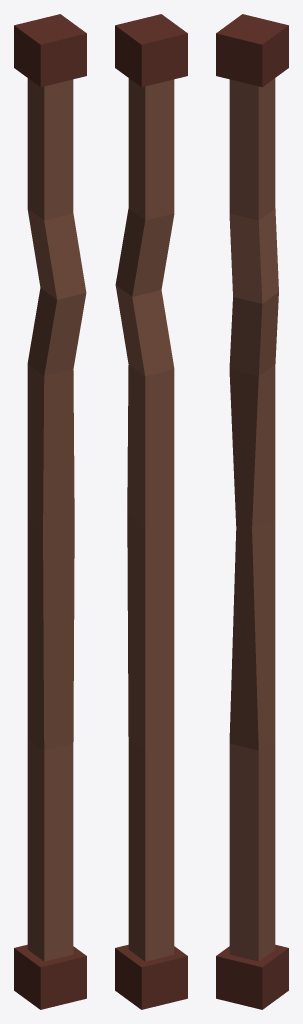
Rendered from ScrapPiller1.fbx.
The picture shows the model from 3 angles, left to right: view 1: azimuth 30°, elevation 25°; view 2: azimuth 210°, elevation 25°; view 3: azimuth 330°, elevation 25°; orthographic projection.
Parts seen in each view (by area): view 1: Cube; view 2: Cube; view 3: Cube.
Part boxes in pixels (x1,y1,x2,y2): Cube: [14, 14, 86, 1009]; Cube: [115, 14, 187, 1009]; Cube: [216, 14, 288, 1009].
Size of the model in its own units: 20.02 by 398 by 19.8.
